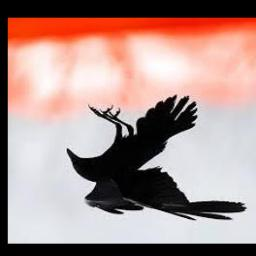Crow: (66, 95, 246, 222)
